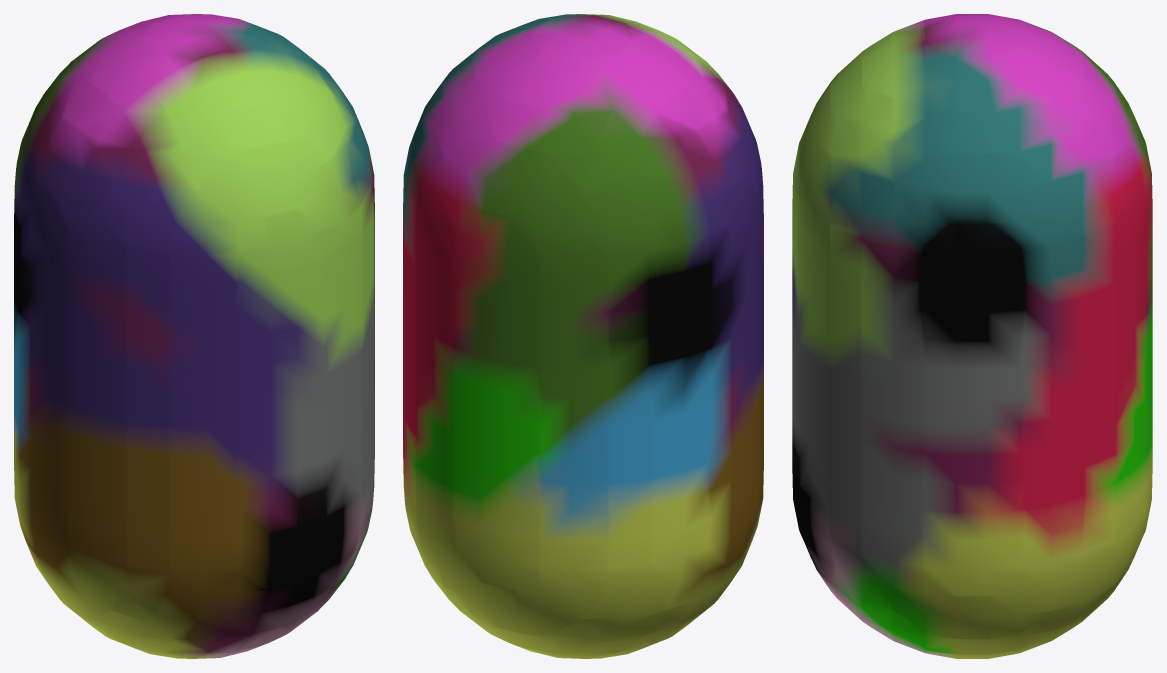
Rendered from example_character.glb.
3 views of the same model, side by side, from view 1: azimuth 30°, elevation 25°; view 2: azimuth 150°, elevation 25°; view 3: azimuth 270°, elevation 25° (orthographic).
Parts seen in each view (by area): view 1: Mball.001; view 2: Mball.001; view 3: Mball.001.
Part boxes in pixels (bbox=[...]): Mball.001: bbox=[14, 14, 374, 658]; Mball.001: bbox=[403, 14, 763, 658]; Mball.001: bbox=[792, 14, 1152, 658].
Bounding box in the file's own units: 4.58 × 8.57 × 4.58.
